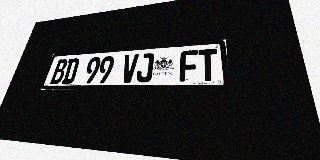9: (83, 56, 102, 83), (96, 56, 115, 83)
B: (50, 59, 69, 84)
D: (61, 58, 80, 84)
F: (179, 50, 198, 82)
J: (135, 53, 154, 82)
T: (198, 48, 218, 81)
V: (120, 54, 139, 83)
